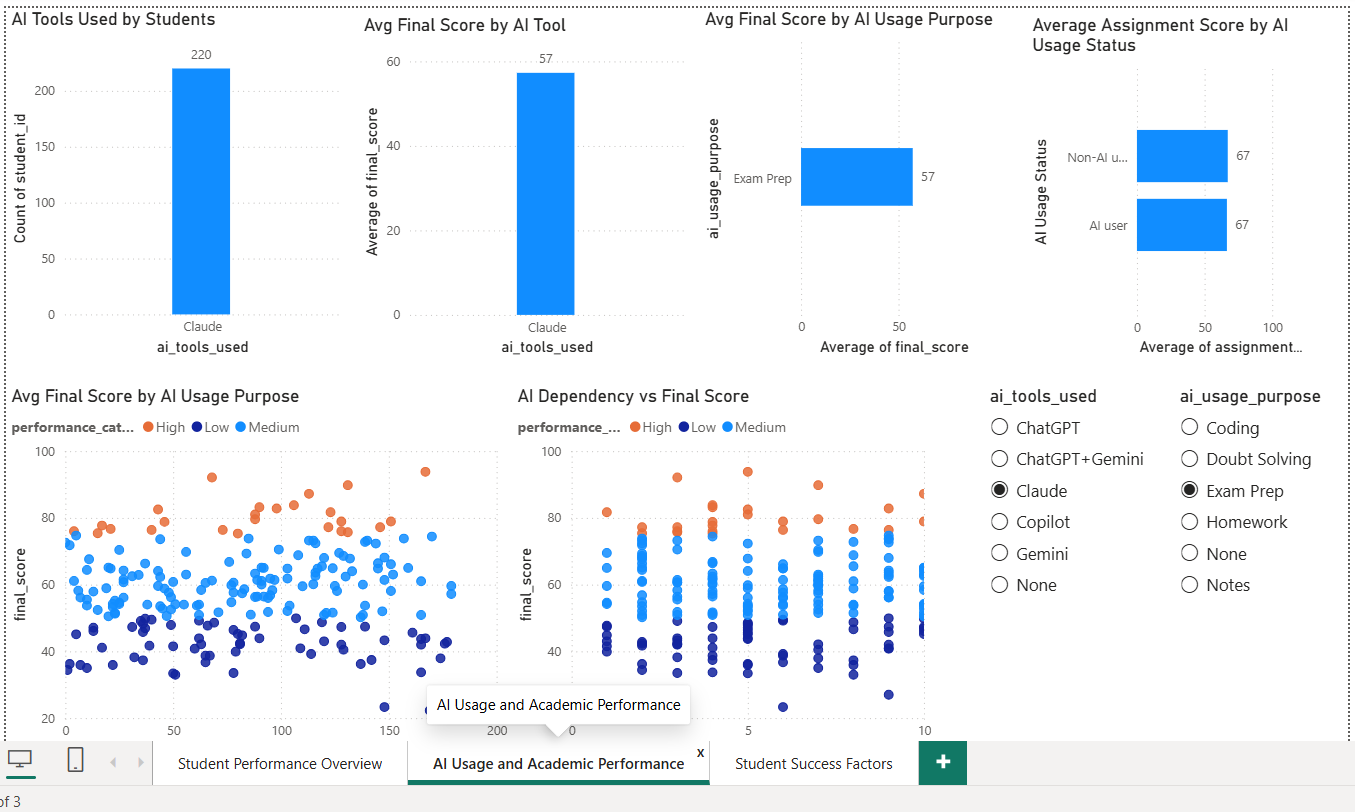

This screenshot's page, from the dashboard's own definition file:
{"tool":"powerbi","page":{"name":"AI Usage and Academic Performance","canvas":[1280,720],"ordinal":1},"visuals":[{"type":"columnChart","title":"AI Tools Used by Students","fields":{"Category":["ai_impact_student_performance_dataset.ai_tools_used"],"Y":["CountNonNull(ai_impact_student_performance_dataset.student_id)"]},"box":[0,0,323.8,336.2],"z":0},{"type":"columnChart","title":"Avg Final Score by AI Tool","fields":{"Category":["ai_impact_student_performance_dataset.ai_tools_used"],"Y":["Avg(ai_impact_student_performance_dataset.final_score)"]},"box":[336.2,5.5,315.6,330.7],"z":1},{"type":"barChart","title":"Avg Final Score by AI Usage Purpose","fields":{"Category":["ai_impact_student_performance_dataset.ai_usage_purpose"],"Y":["Avg(ai_impact_student_performance_dataset.final_score)"]},"box":[661.4,0,286.8,336.2],"z":2},{"type":"scatterChart","title":"Avg Final Score by AI Usage Purpose","fields":{"X":["ai_impact_student_performance_dataset.ai_usage_time_minutes"],"Y":["ai_impact_student_performance_dataset.final_score"],"Series":["ai_impact_student_performance_dataset.performance_category"]},"box":[0,359.5,483,360.9],"z":3},{"type":"scatterChart","title":"AI Dependency vs Final Score","fields":{"X":["ai_impact_student_performance_dataset.ai_dependency_score"],"Y":["ai_impact_student_performance_dataset.final_score"],"Series":["ai_impact_student_performance_dataset.performance_category"]},"box":[483,359.5,404.8,360.9],"z":4},{"type":"clusteredBarChart","title":"Average Assignment Score by AI Usage Status","fields":{"Category":["ai_impact_student_performance_dataset.AI Usage Status"],"Y":["Avg(ai_impact_student_performance_dataset.assignment_scores_avg)"]},"box":[974.3,5.5,279.9,330.7],"z":5},{"type":"listSlicer","fields":{"Values":["ai_impact_student_performance_dataset.ai_tools_used"]},"box":[933.1,359.5,181.1,212.7],"z":6},{"type":"listSlicer","fields":{"Values":["ai_impact_student_performance_dataset.ai_usage_purpose"]},"box":[1114,360,150,213],"z":7}]}

Visuals, with their boxes on the page's 1280x720 design canvas (x1, y1, x2, y2). These are canvas units, not pixel positions in the 1355x812 screenshot, which may show the page scaled, cropped or inside an application window:
"AI Tools Used by Students" columnChart: region(0, 0, 324, 336)
"Avg Final Score by AI Tool" columnChart: region(336, 6, 652, 336)
"Avg Final Score by AI Usage Purpose" barChart: region(661, 0, 948, 336)
"Avg Final Score by AI Usage Purpose" scatterChart: region(0, 360, 483, 720)
"AI Dependency vs Final Score" scatterChart: region(483, 360, 888, 720)
"Average Assignment Score by AI Usage Status" clusteredBarChart: region(974, 6, 1254, 336)
listSlicer - ai_impact_student_performance_dataset.ai_tools_used: region(933, 360, 1114, 572)
listSlicer - ai_impact_student_performance_dataset.ai_usage_purpose: region(1114, 360, 1264, 573)
